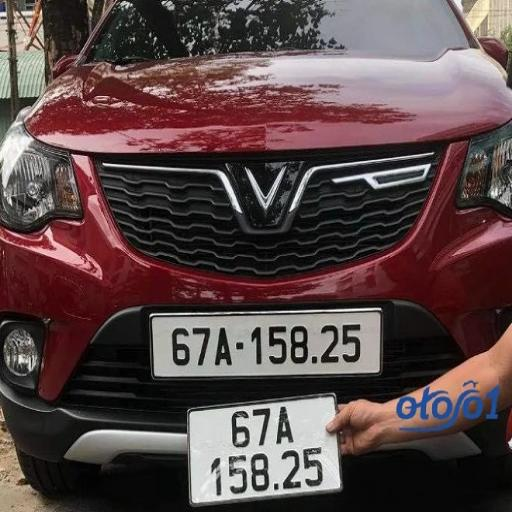place: (189, 401, 340, 493), (152, 314, 381, 374)
